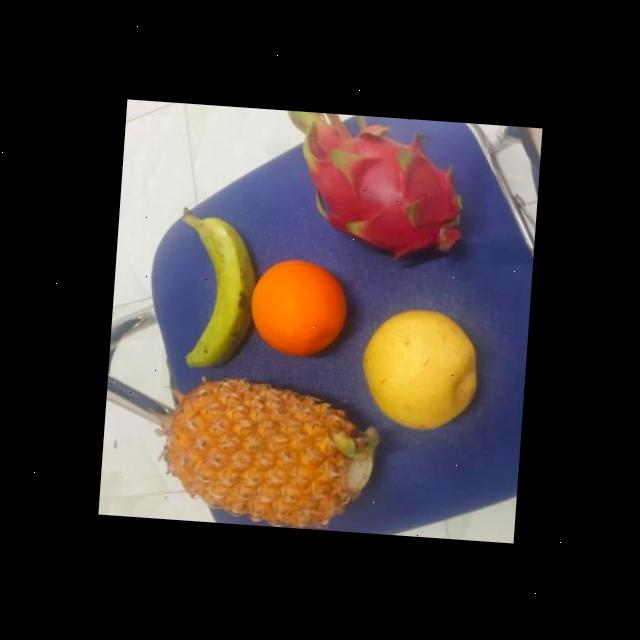banana: (178, 218, 258, 380)
guava: (359, 307, 482, 438)
orange: (243, 254, 354, 364)
pineapple: (156, 376, 375, 531)
pitaya: (304, 112, 474, 276)
